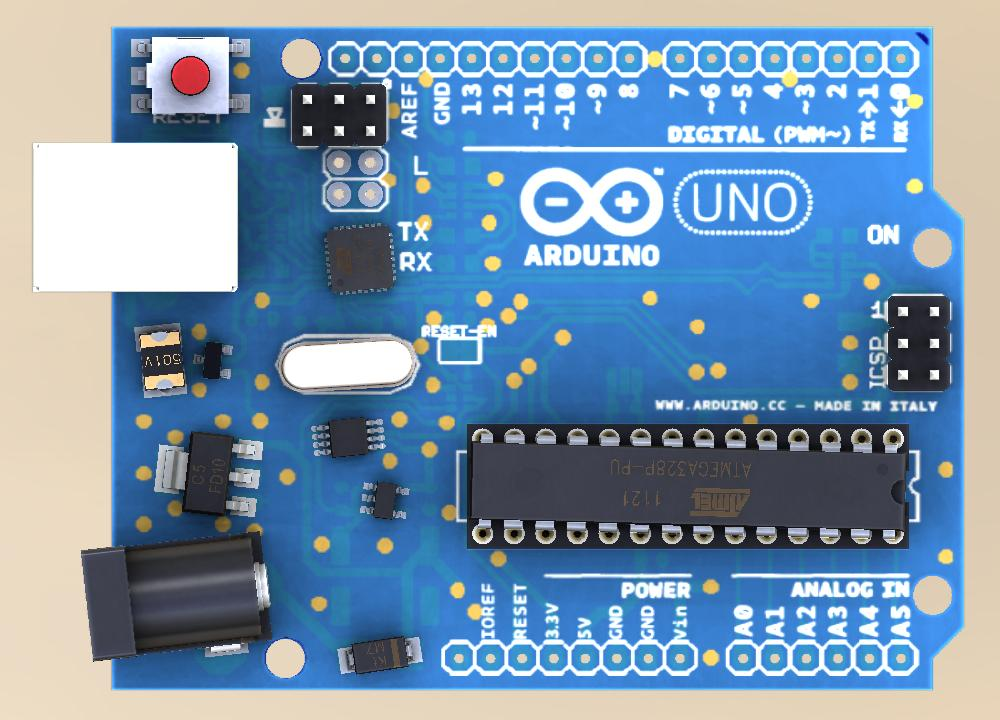ATMEL328P: (469, 424, 911, 551)
ATMega16u2: (320, 219, 399, 301)
Crystal: (276, 334, 417, 398)
Fuse: (133, 324, 189, 399)
LMV358: (360, 477, 411, 526)
M7 diode: (339, 634, 425, 678)
Missing: (664, 39, 918, 79), (441, 641, 697, 680), (731, 639, 921, 677), (310, 536, 387, 621), (249, 201, 290, 261), (829, 313, 863, 375), (263, 86, 290, 150), (440, 371, 479, 413), (599, 366, 646, 394), (814, 220, 858, 249), (324, 480, 353, 518), (417, 476, 437, 524), (247, 304, 285, 328), (251, 264, 295, 282)
PIN Header: (290, 83, 390, 147), (891, 296, 951, 391)
Power: (76, 536, 272, 663)
Regulator: (137, 414, 277, 530)
Reset: (131, 34, 251, 118)
SSOT3: (193, 340, 234, 382)
USB: (33, 141, 240, 293)
lp2985: (307, 414, 386, 462)
